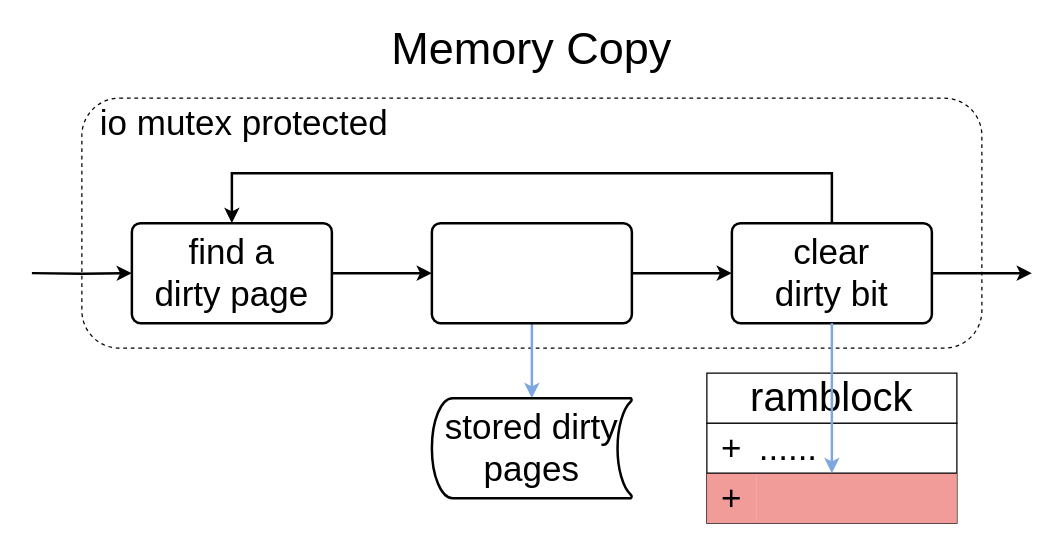
This 1064x545 diagram has some shape labels left out. Here are the shapes that lost their labels. From the top down, the centre of each, then its label:
the point at 531,272: copy this page
the point at 856,497: dirty bitmap
